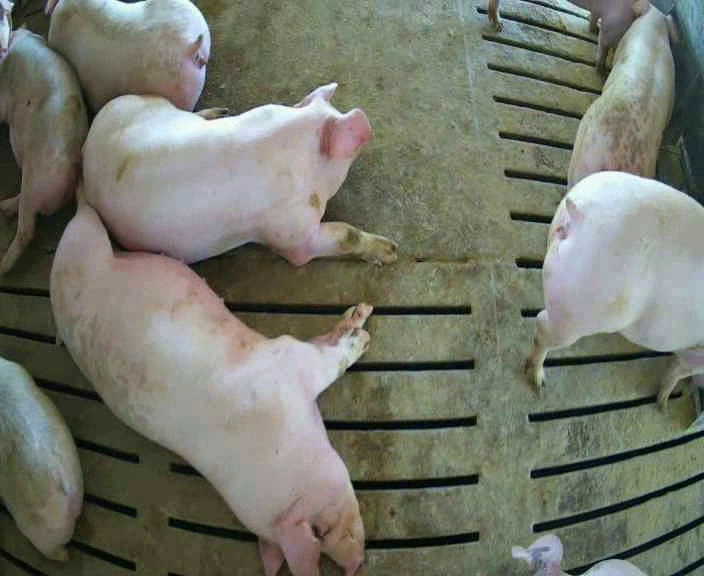pig: (51, 169, 368, 574), (82, 83, 396, 264), (525, 171, 703, 409), (0, 24, 87, 273), (45, 2, 210, 111)
